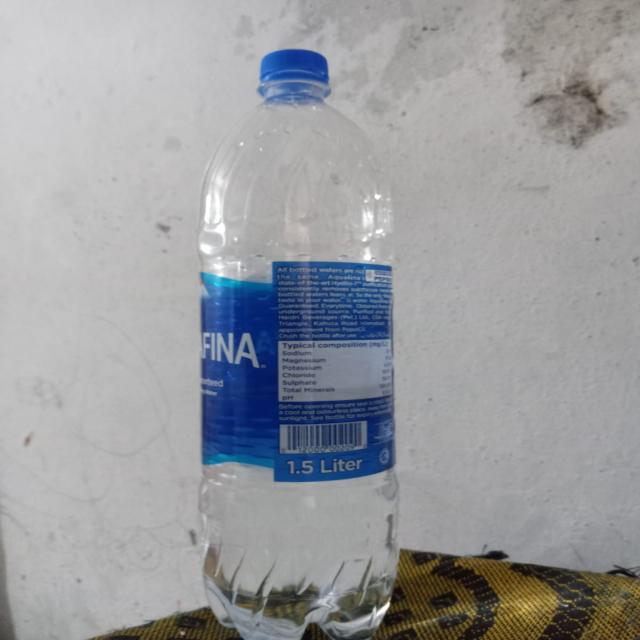bottle: (179, 34, 406, 640)
cap: (248, 42, 343, 102)
label: (174, 247, 406, 488)
